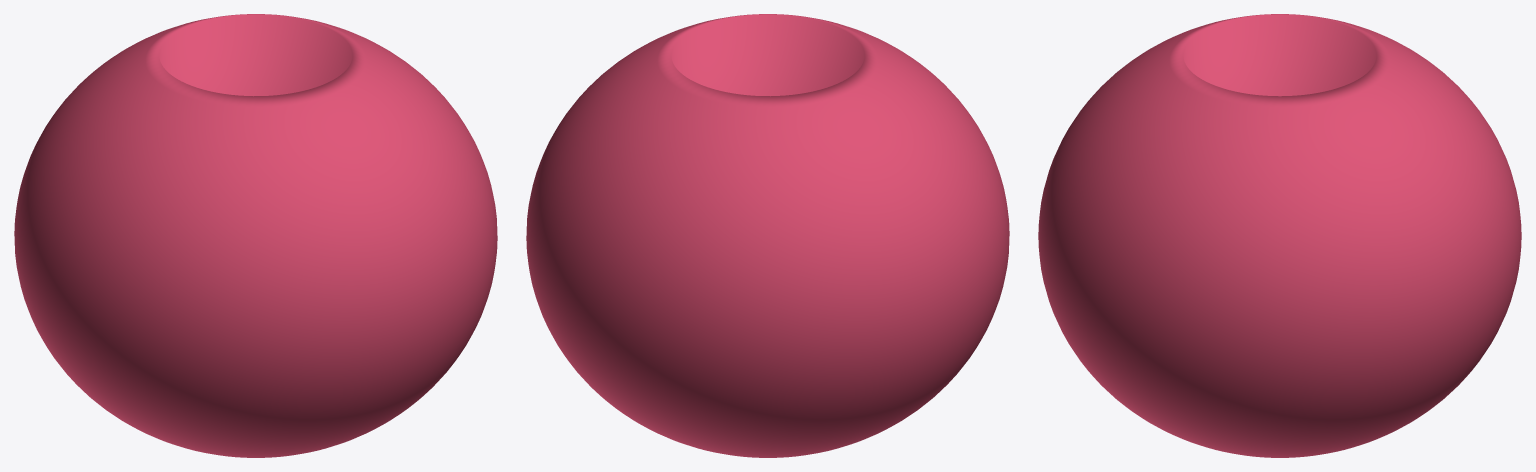
Rendered from spacer-305-glass.glb.
The picture shows the model from 3 angles, left to right: view 1: azimuth 30°, elevation 25°; view 2: azimuth 150°, elevation 25°; view 3: azimuth 270°, elevation 25°; orthographic projection.
Parts seen in each view (by area): view 1: Spacer with through bore.004; view 2: Spacer with through bore.004; view 3: Spacer with through bore.004.
Boxes of the visible parts, x1,y1,x2,y2 form: Spacer with through bore.004: [14, 14, 497, 457]; Spacer with through bore.004: [526, 14, 1009, 457]; Spacer with through bore.004: [1038, 14, 1521, 457].
Bounding box in the file's own units: 0.002 × 0.00165 × 0.002.
